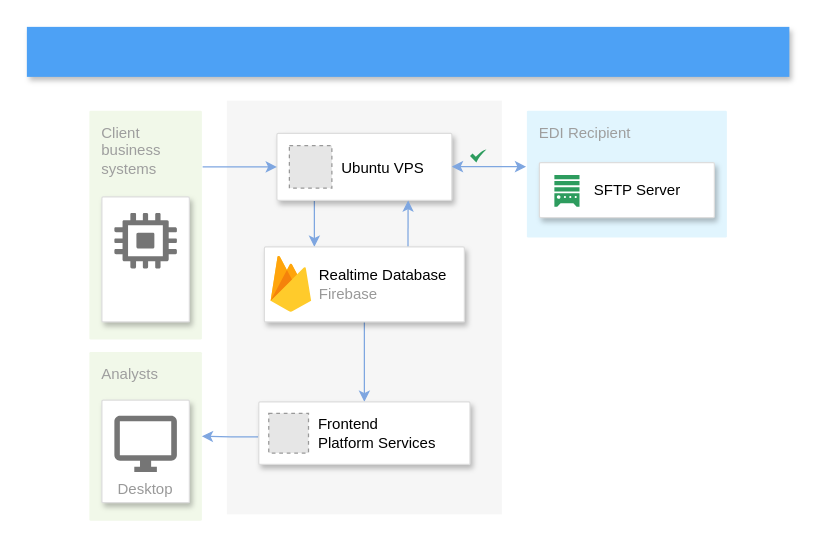
Some shapes in this 818 by 541 pixel diagram are drawn without their labels. Grey dashed boxes stand in for pictures. The shapes that lost their labels are listed below. From the top down, each one's centre as x and y in pixels, then its label:
At point (408, 53): "EDI controller architecture".
At point (146, 261): "Local device".
